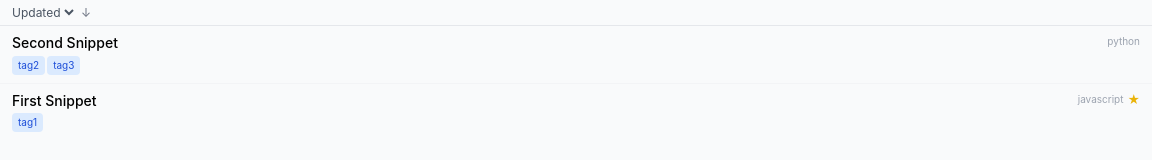
Scenario: SnippetList › 컨텍스트 메뉴 › Escape를 누르면 닫힌다
Right-click the heading "First Snippet" at (54, 100), box x1=12 y1=92 x2=96 y2=108
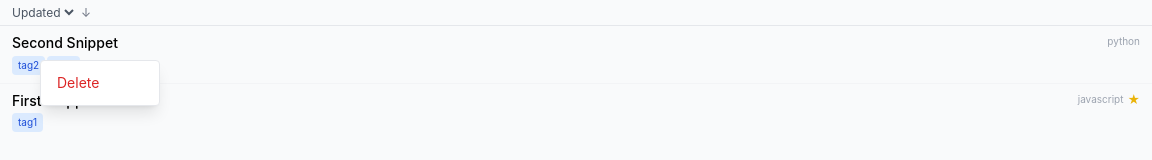
Press Escape
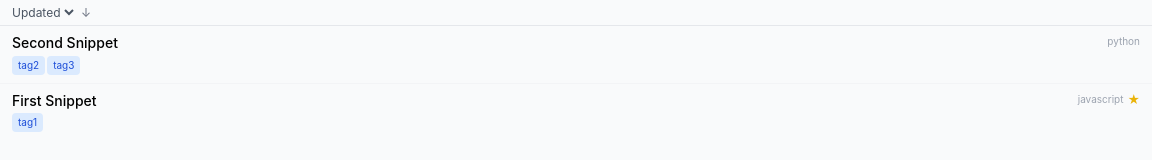
Expected: the menu is gone
